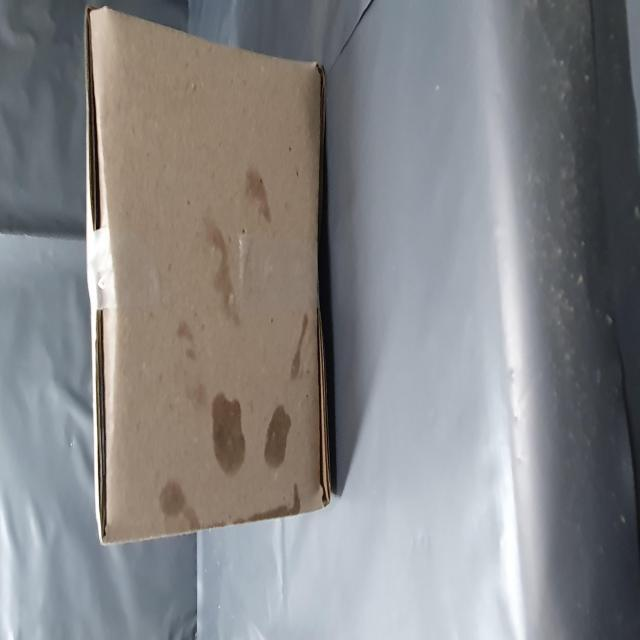wet: (57, 264, 157, 592)
